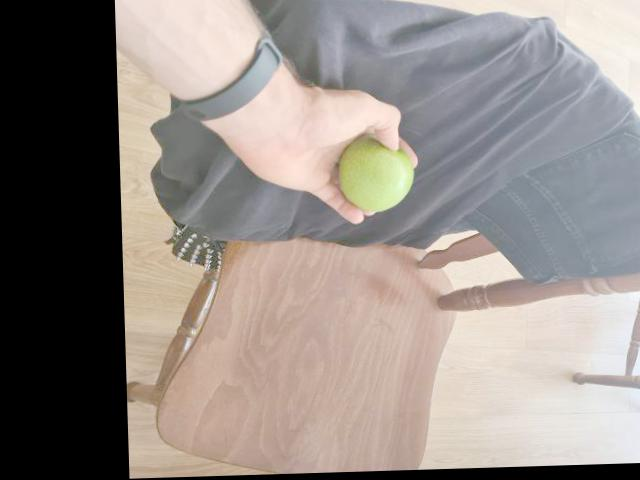apple: (337, 143, 414, 216)
